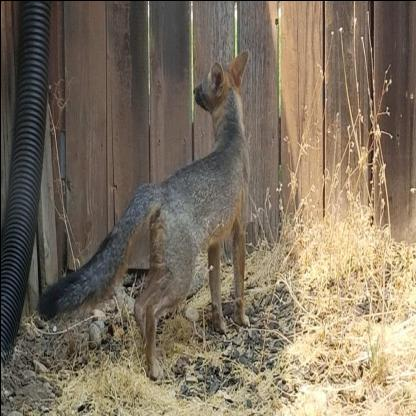zorro: (30, 45, 277, 387)
